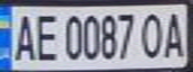0: (60, 10, 84, 62), (81, 10, 103, 61)
7: (115, 10, 139, 61)
8: (100, 11, 121, 61)
A: (9, 9, 39, 63), (160, 8, 190, 59)
E: (30, 10, 60, 63)
O: (139, 9, 166, 60)
